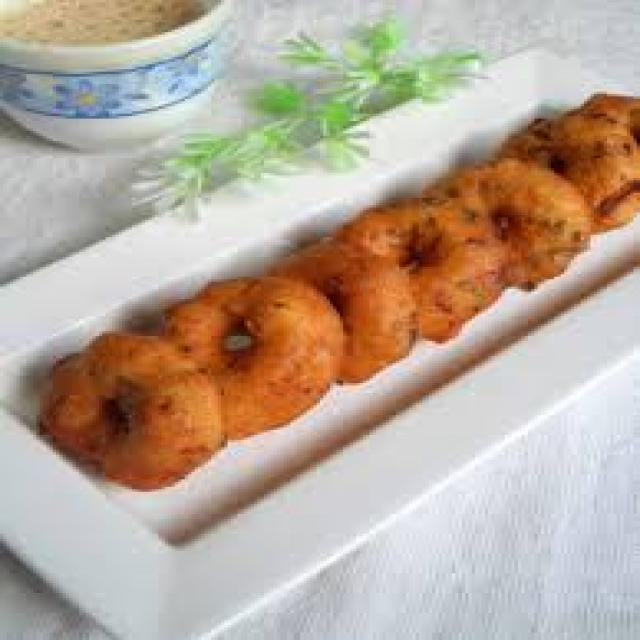MEDU VADA: (162, 277, 343, 437), (40, 331, 218, 487), (333, 188, 508, 341), (287, 237, 412, 381), (501, 109, 637, 230), (478, 156, 600, 287)
